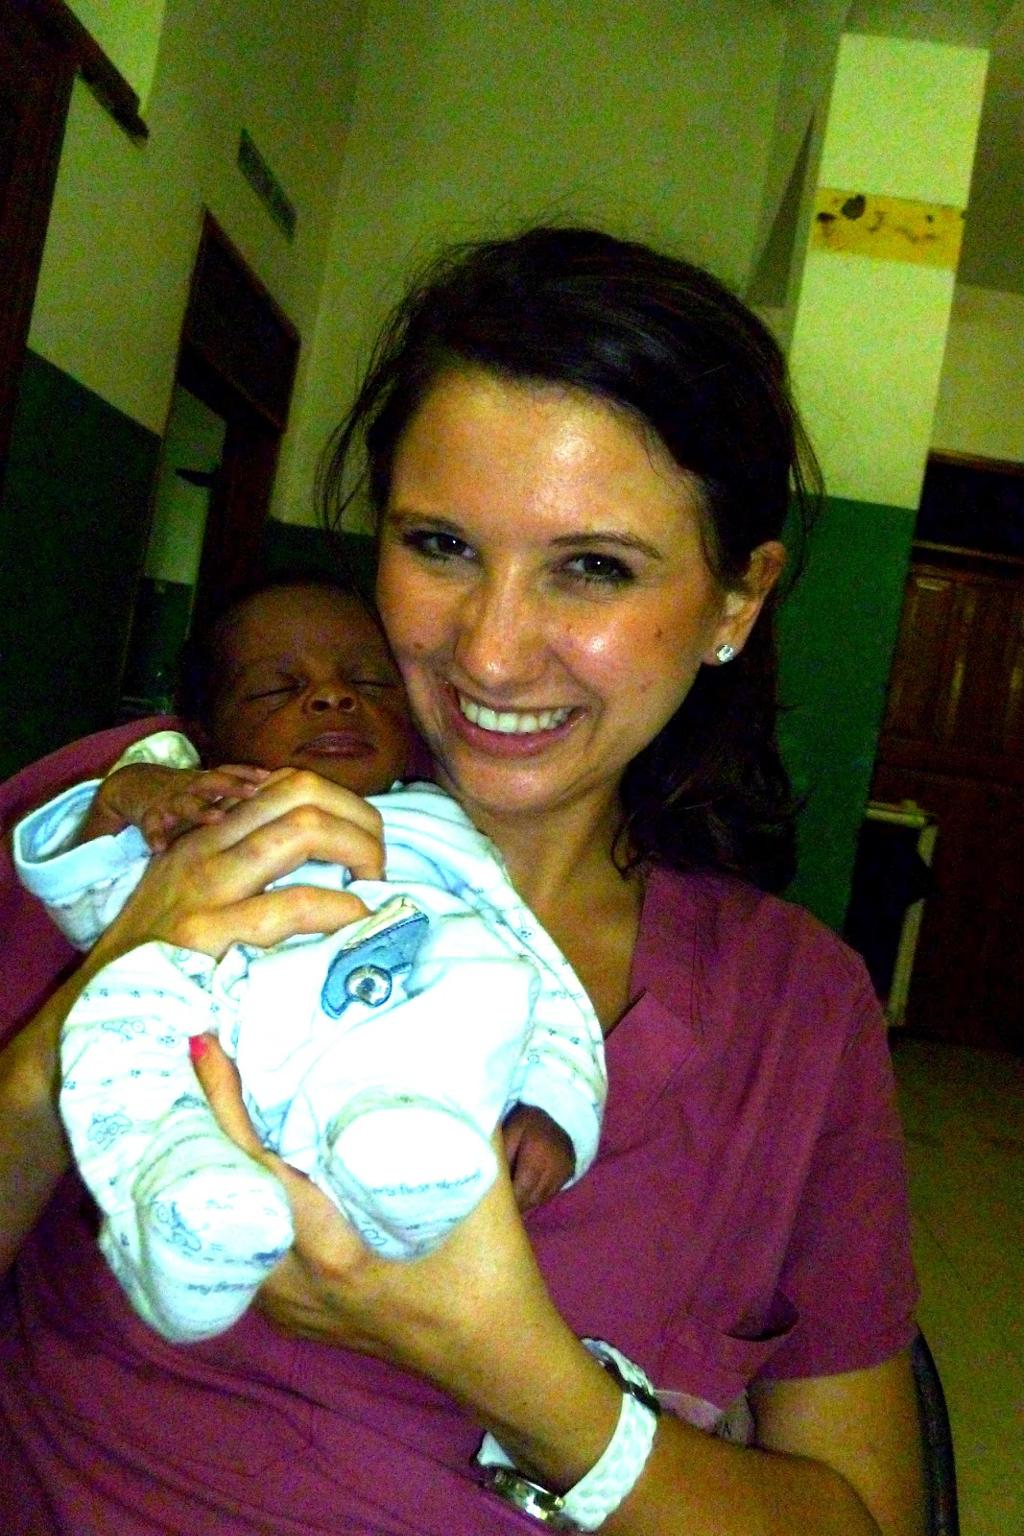face: (378, 369, 711, 813), (222, 598, 399, 778)
